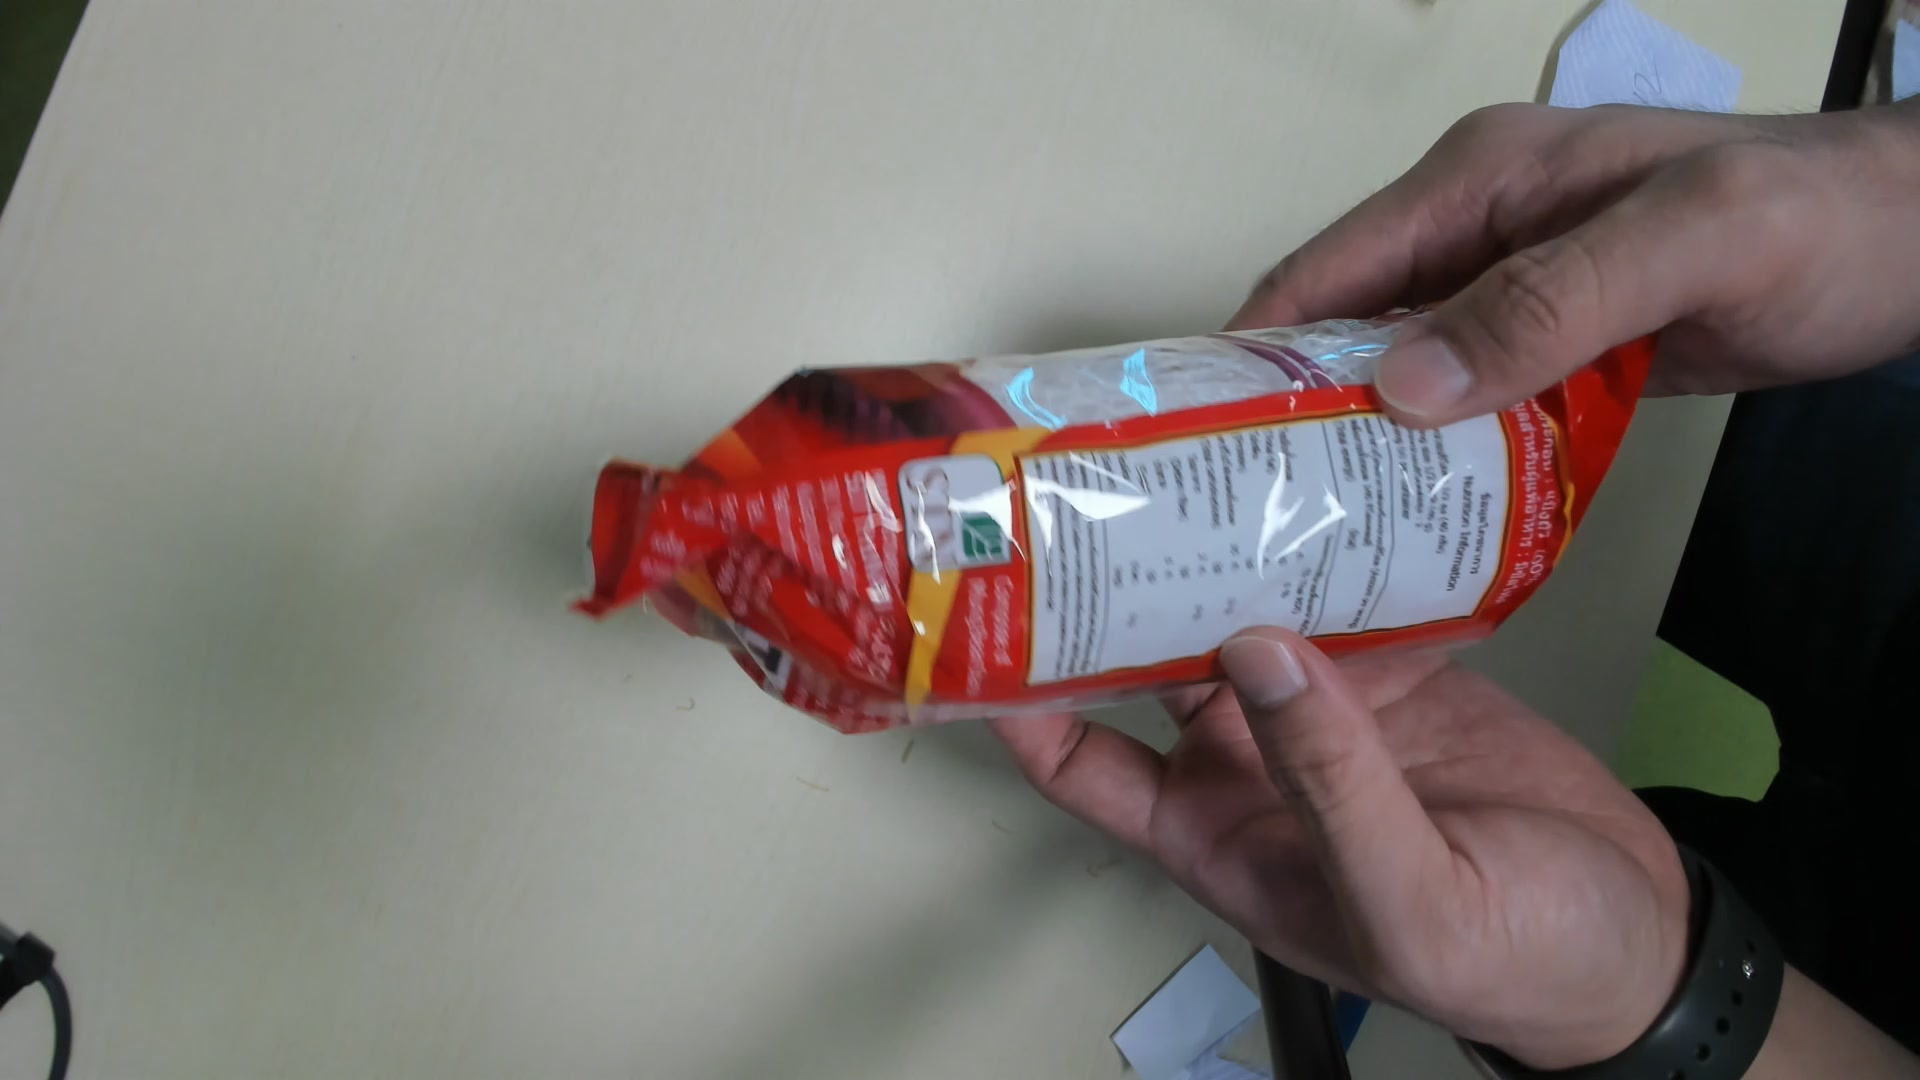BeeHoonVermicelli_0-99g_Halal_NonHealthy: (562, 307, 1654, 733)
